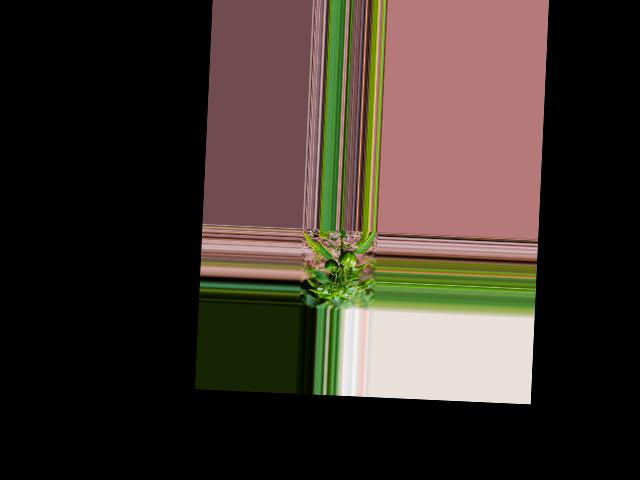bell_pepper: (323, 258, 338, 272)
